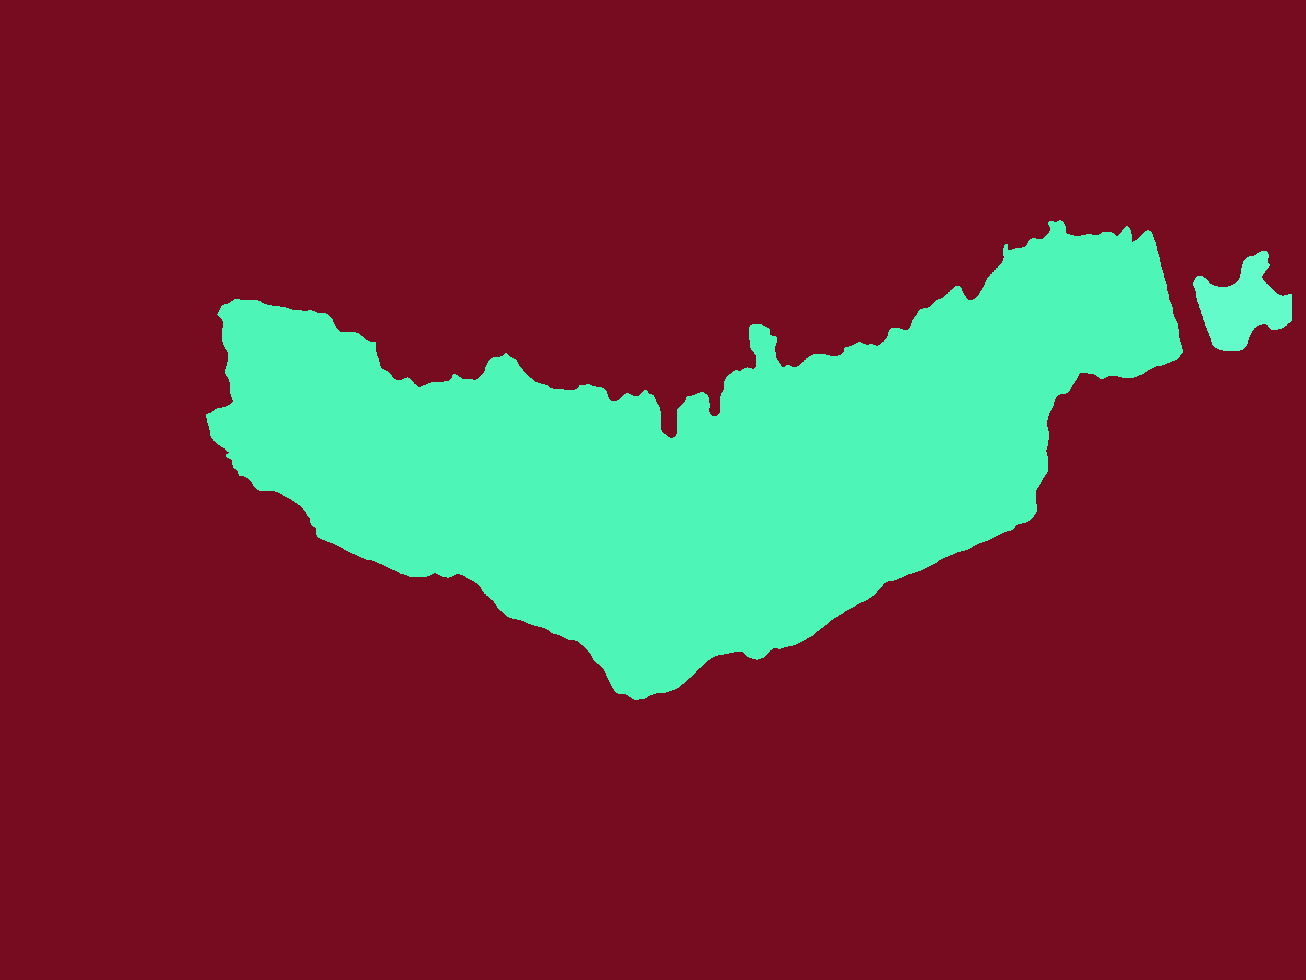merge: (185, 195, 1306, 720)
